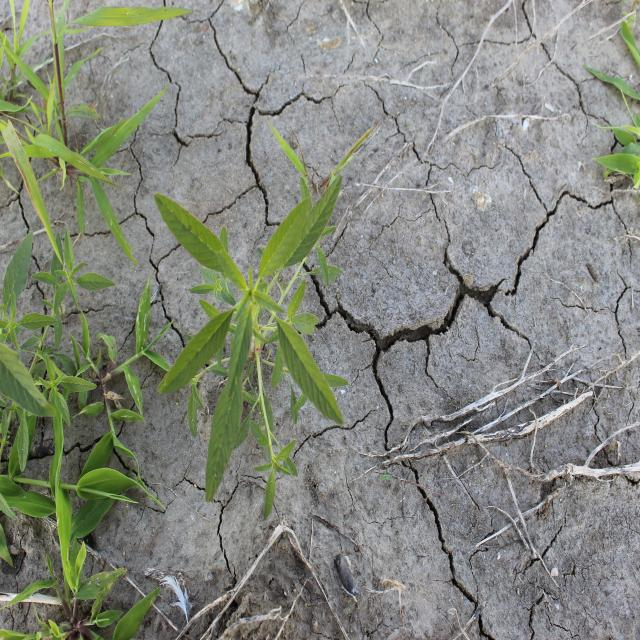Waterhemp: (153, 172, 350, 523), (2, 226, 117, 483)
